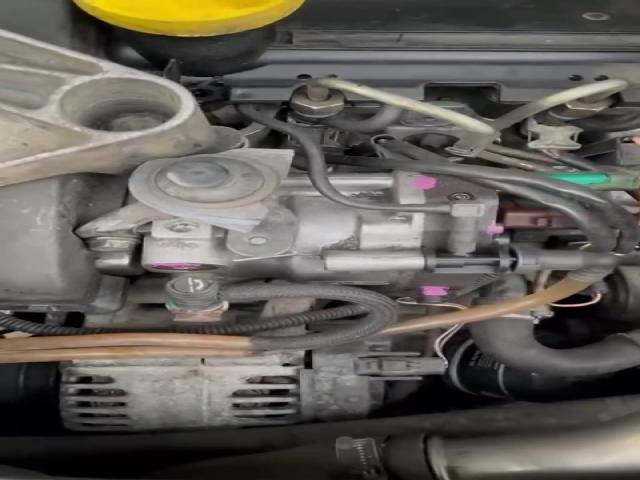alternator: (53, 319, 449, 432)
high_pressure_pump: (136, 166, 513, 297)
